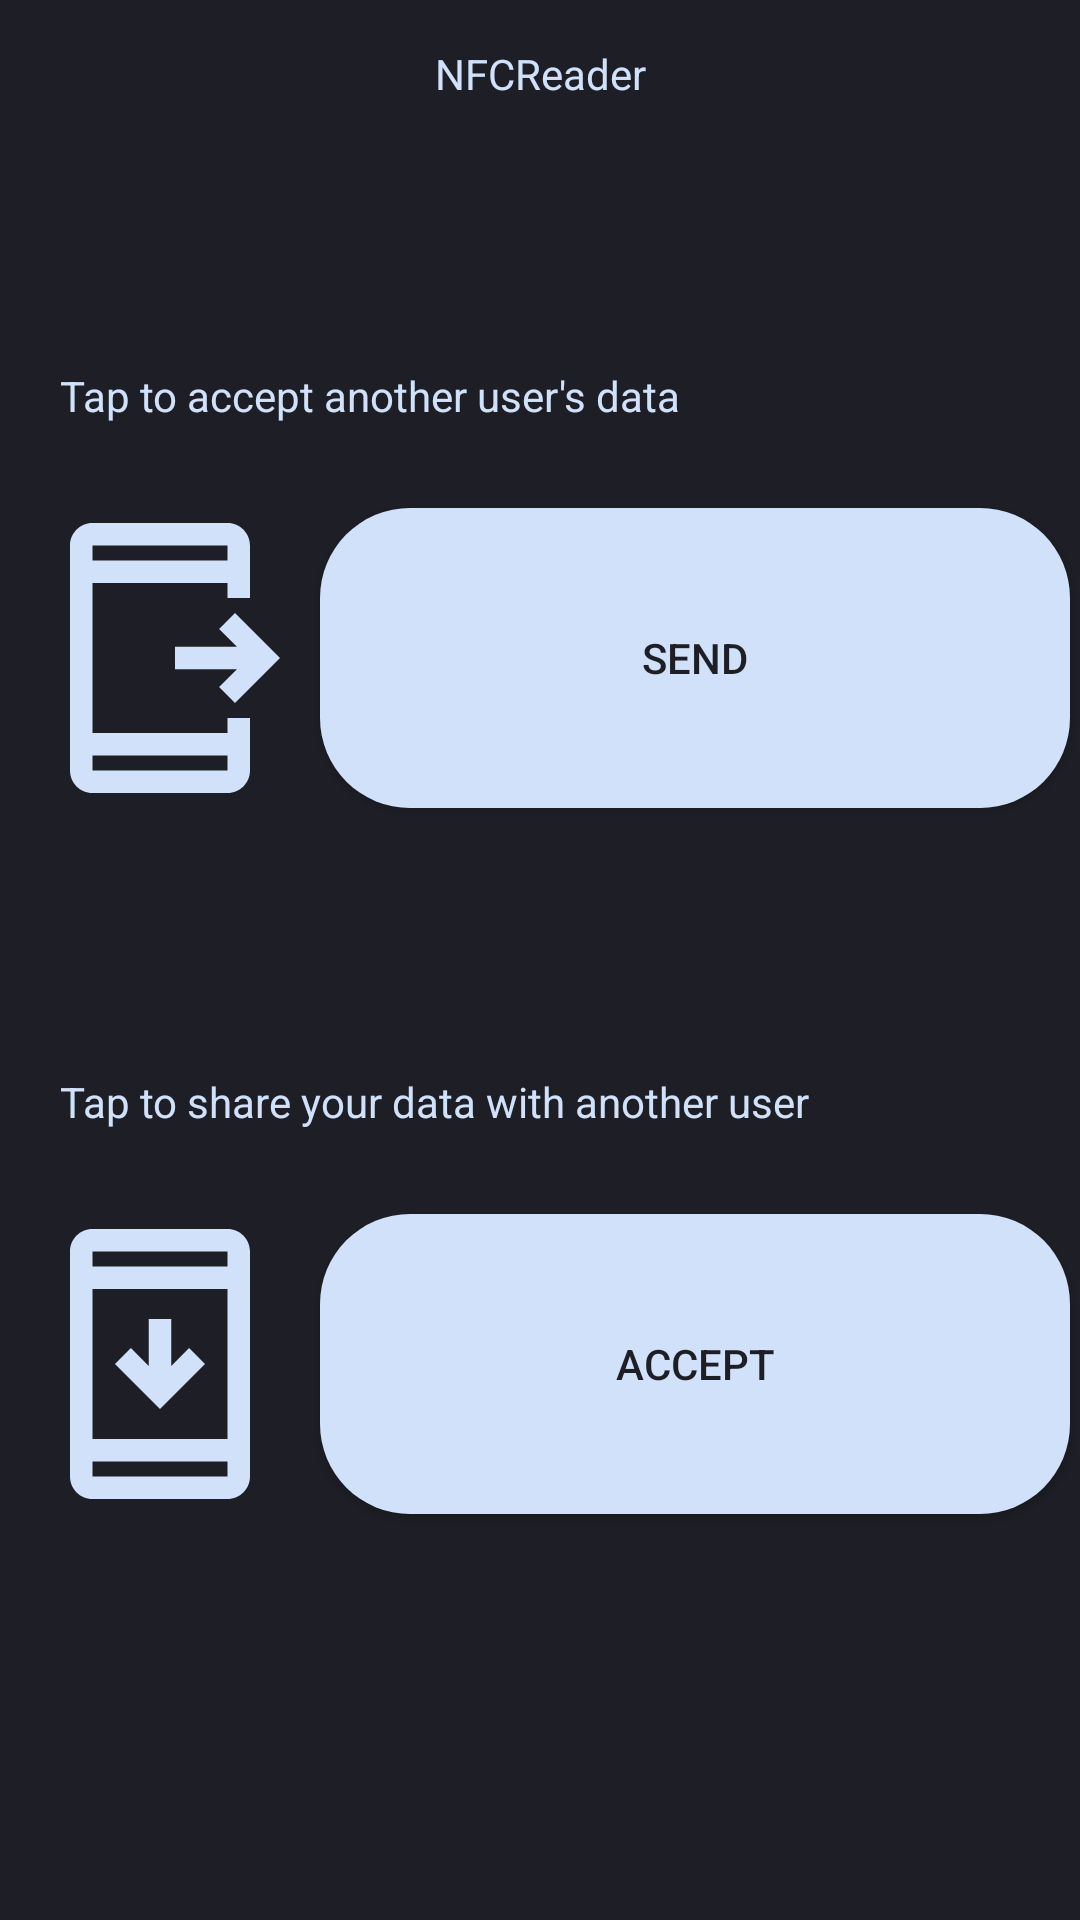

Icons on this 1080 × 1920 Android screen, each with its box as box=[x1, y1, x2, y2]:
security update: box=[70, 1229, 250, 1499]
